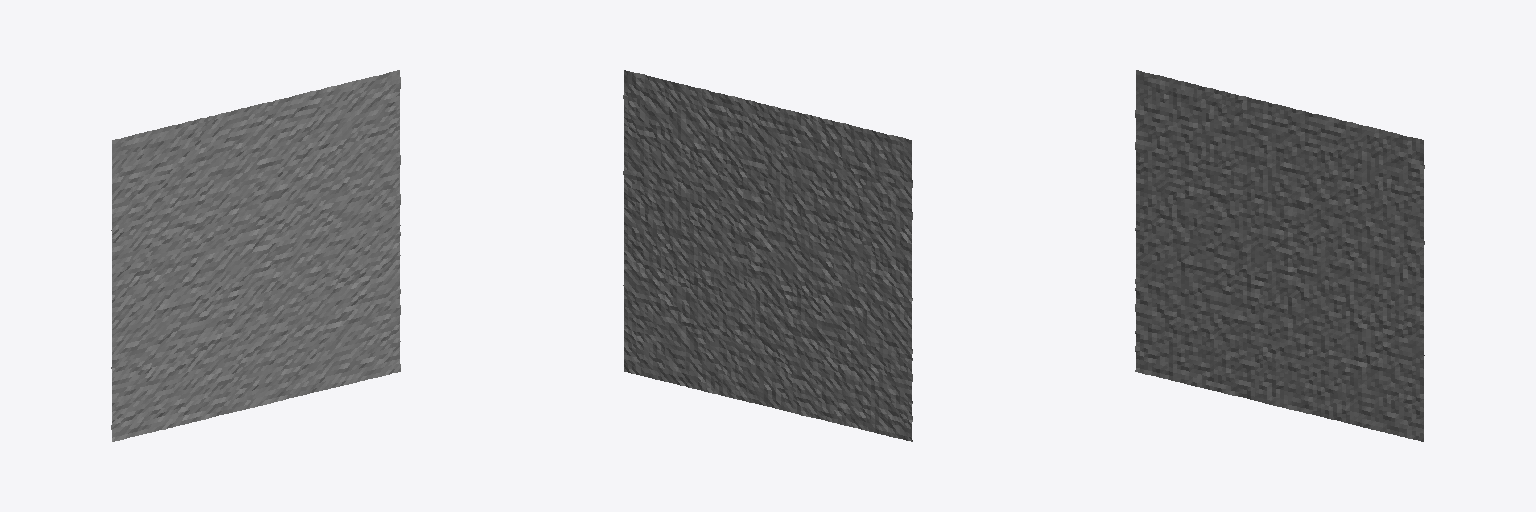
Rendered from terrain.obj.
The picture shows the model from 3 angles: view 1: azimuth 30°, elevation 25°; view 2: azimuth 150°, elevation 25°; view 3: azimuth 330°, elevation 25°; orthographic projection.
Parts seen in each view (by area): view 1: Plane001; view 2: Plane001; view 3: Plane001.
Part boxes in pixels (bbox=[...]): Plane001: bbox=[111, 70, 400, 441]; Plane001: bbox=[623, 70, 912, 441]; Plane001: bbox=[1135, 70, 1424, 441].
Bounding box in the file's own units: 60 × 60 × 0.412.